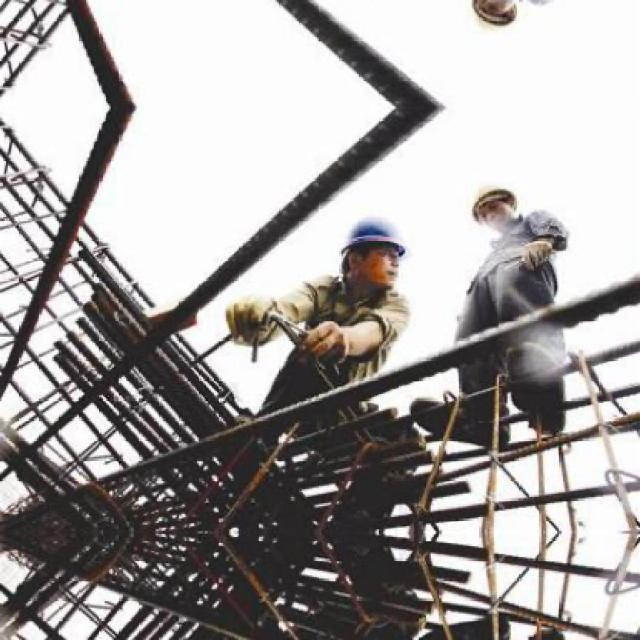con casco: (322, 204, 416, 283), (477, 178, 541, 240)
